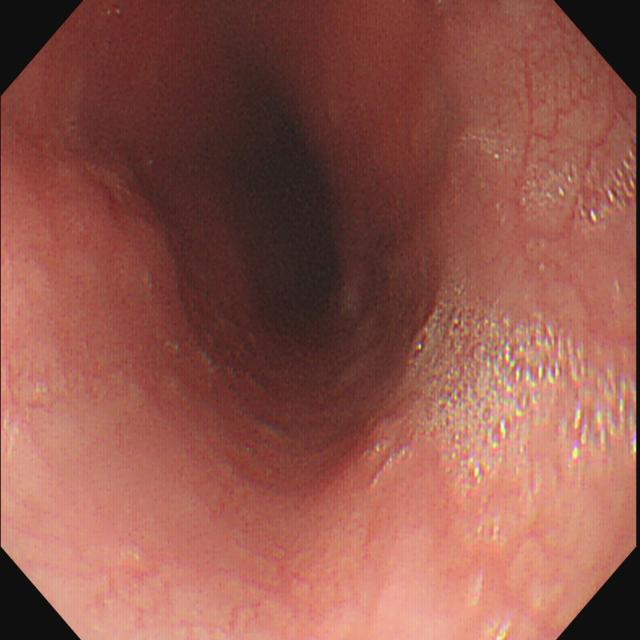E: (218, 112, 348, 325)
T: (406, 289, 638, 491), (516, 144, 637, 226)
